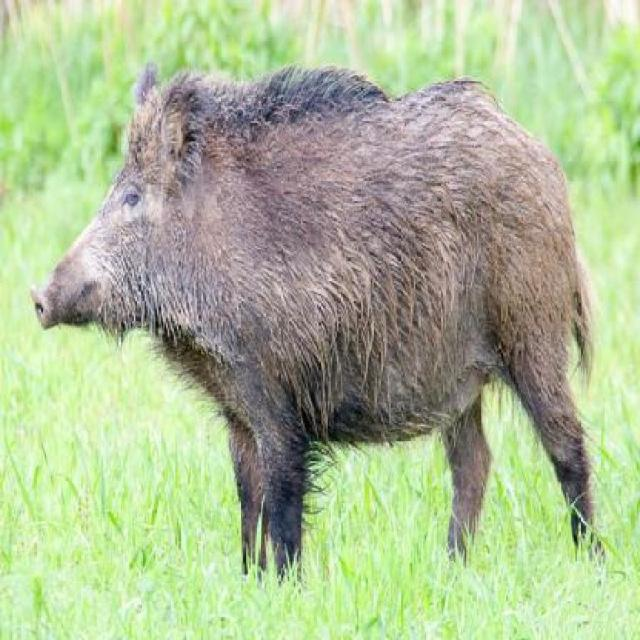wildboar: (27, 52, 602, 590)
